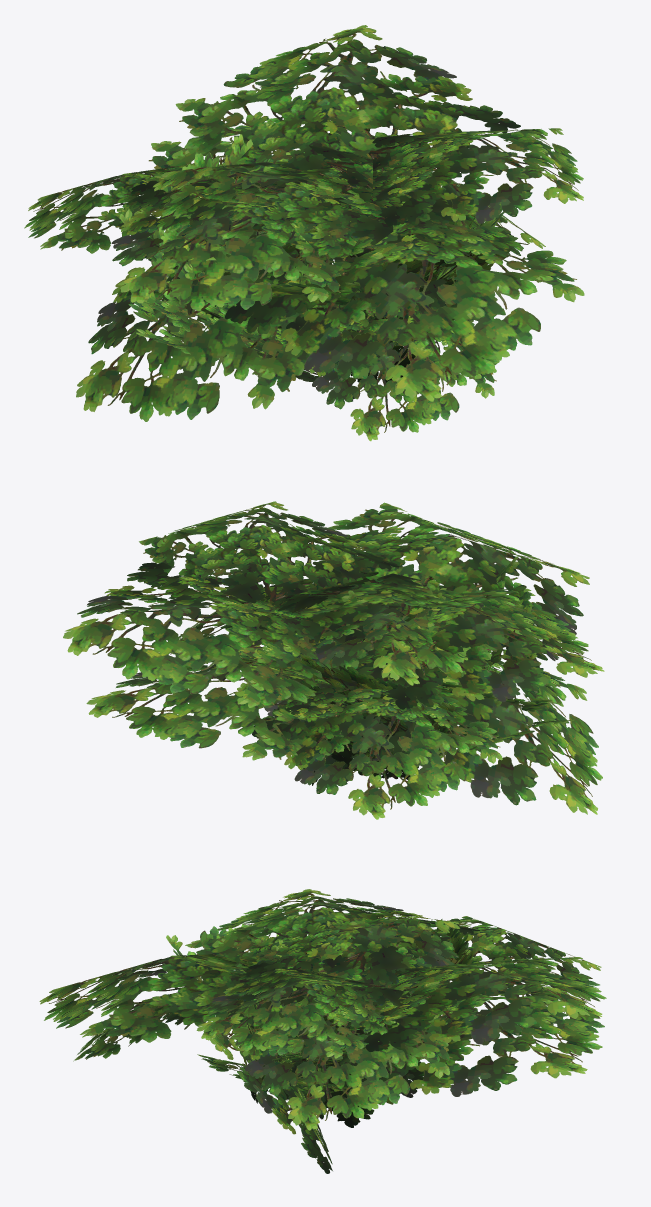
Rendered from guanmu_020.FBX.
The picture shows the model from 3 angles, top to bottom: view 1: azimuth 30°, elevation 25°; view 2: azimuth 150°, elevation 25°; view 3: azimuth 270°, elevation 25°; orthographic projection. The views are drawn at different scales.
Visible parts, largest first — view 1: guanmu_020_02; view 2: guanmu_020_02; view 3: guanmu_020_02.
Boxes of the visible parts, x1=… form: guanmu_020_02: x1=24, y1=25, x2=584, y2=441; guanmu_020_02: x1=63, y1=501, x2=604, y2=819; guanmu_020_02: x1=39, y1=889, x2=606, y2=1173.
Bounding box in the file's own units: 1.14 × 0.5383 × 1.26.
